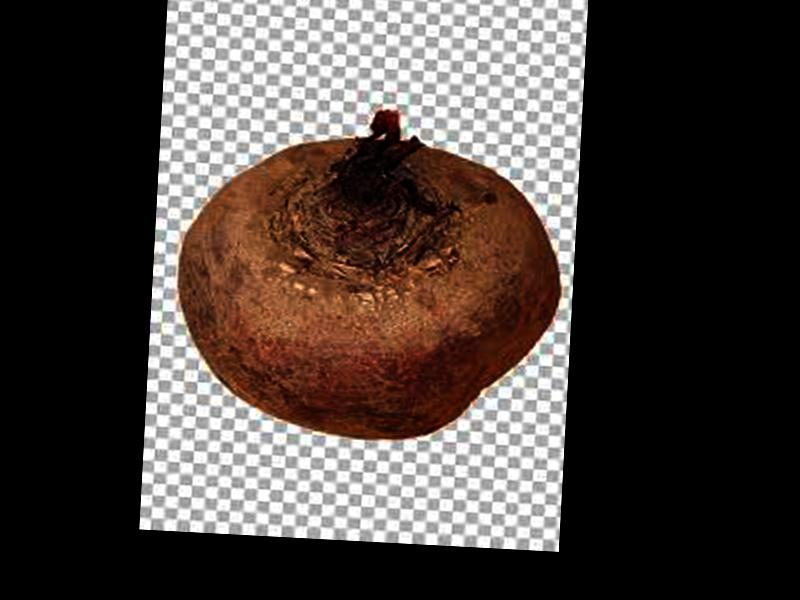Beet: (172, 98, 566, 447)
